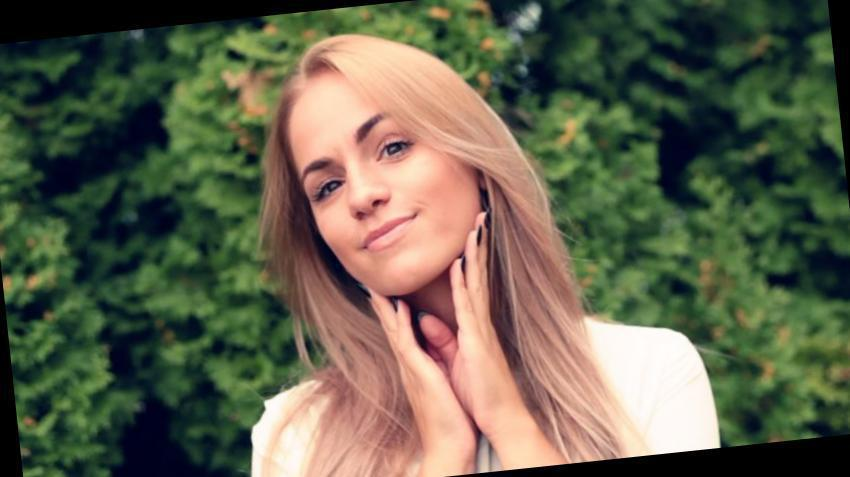Sober: (295, 84, 462, 285)
